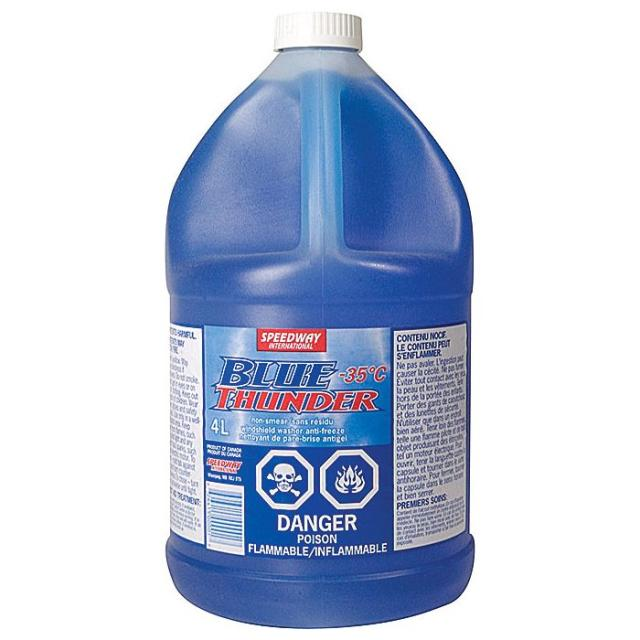winwinshield_washer: (153, 9, 486, 631)
